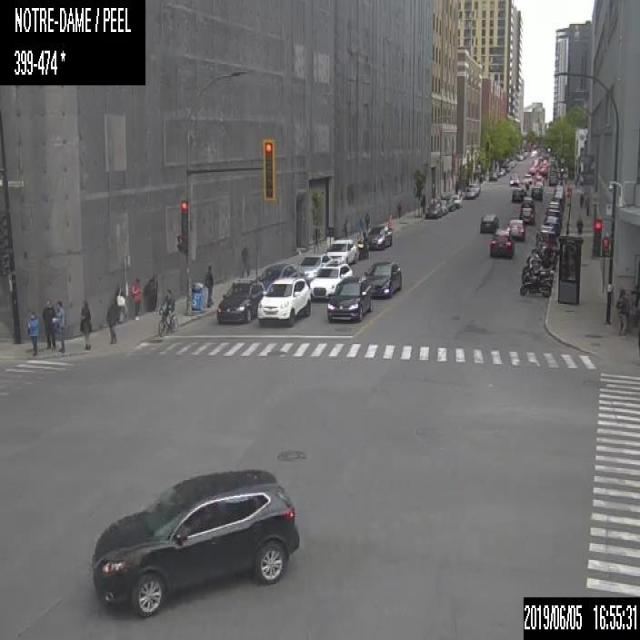construction: (387, 214, 392, 229)
cyclist: (157, 287, 178, 336), (357, 231, 368, 259)
pedestrian: (50, 299, 66, 353), (42, 296, 56, 352), (78, 300, 90, 348), (129, 272, 141, 320), (144, 272, 158, 312), (106, 298, 117, 343), (114, 280, 125, 322), (616, 288, 626, 332), (28, 311, 38, 353), (239, 243, 249, 277), (204, 265, 212, 307), (575, 212, 582, 233), (420, 192, 426, 213), (578, 191, 584, 209), (343, 219, 348, 237), (363, 211, 368, 229), (592, 196, 596, 218), (585, 196, 589, 213)
vehicle: (90, 466, 301, 618), (256, 276, 310, 324), (326, 276, 372, 322), (216, 280, 264, 322), (309, 261, 352, 300), (364, 260, 401, 298), (296, 252, 334, 283), (257, 262, 298, 290), (519, 270, 552, 296), (325, 238, 356, 263), (489, 231, 514, 257), (366, 225, 391, 249), (521, 263, 554, 281), (525, 253, 557, 271), (528, 246, 560, 260), (535, 224, 556, 242), (479, 213, 498, 232), (506, 219, 524, 238), (518, 206, 534, 224), (544, 216, 560, 232), (424, 203, 440, 218), (441, 196, 455, 212), (545, 209, 562, 222), (512, 187, 526, 202), (520, 195, 533, 209), (436, 199, 448, 214), (468, 182, 481, 195), (449, 194, 461, 208), (530, 186, 542, 200), (552, 192, 562, 207), (464, 188, 476, 198), (533, 175, 544, 185), (522, 173, 532, 184), (508, 173, 518, 184), (554, 185, 564, 195), (544, 204, 560, 210), (548, 174, 556, 185), (488, 170, 496, 180), (496, 167, 504, 176), (547, 200, 561, 205)
